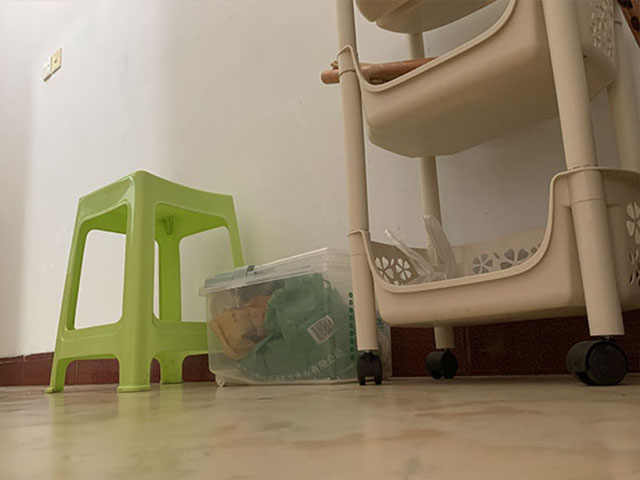stool: (46, 168, 246, 392)
